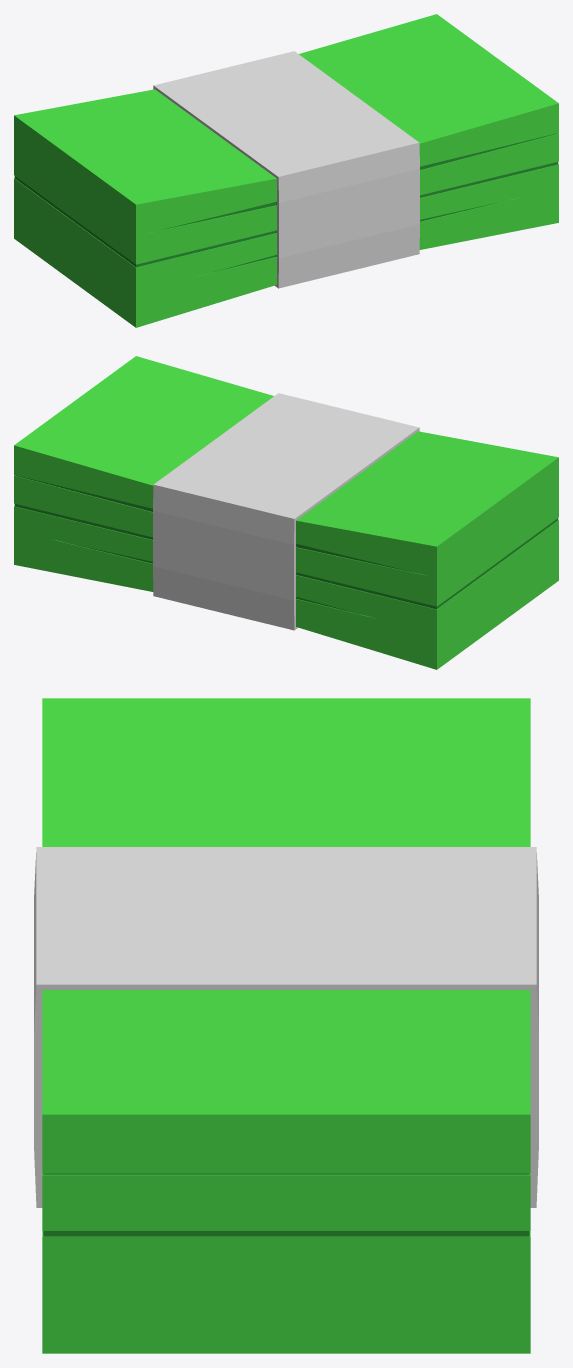
Rendered from Moneys.fbx.
The picture shows the model from 3 angles, top to bottom: view 1: azimuth 30°, elevation 25°; view 2: azimuth 150°, elevation 25°; view 3: azimuth 270°, elevation 25°; orthographic projection. The views are drawn at different scales.
Parts seen in each view (by area): view 1: Money, Money2; view 2: Money, Money2; view 3: Money2, Money.
Part boxes in pixels (bbox=[...]): Money: bbox=[14, 51, 558, 319]; Money2: bbox=[14, 14, 558, 327]; Money: bbox=[14, 393, 558, 660]; Money2: bbox=[14, 356, 558, 669]; Money2: bbox=[42, 698, 530, 1353]; Money: bbox=[34, 847, 538, 1339].
Size of the model in its own units: 60 by 16.71 by 31.02.
